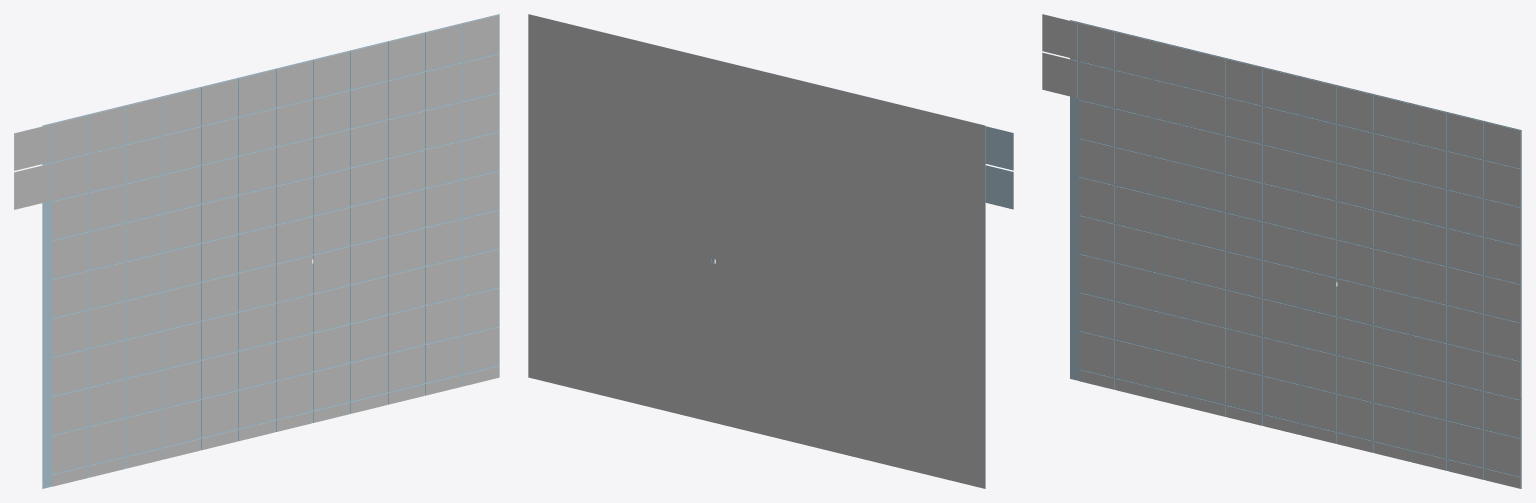
The model's file is floor_0515.obj.
3 views of the same model, side by side, from view 1: azimuth 30°, elevation 25°; view 2: azimuth 150°, elevation 25°; view 3: azimuth 330°, elevation 25° (orthographic).
Visible parts, largest first — view 1: mesh75, mesh115, mesh185, mesh355, mesh475, mesh63, mesh80, mesh85, mesh90, mesh135, mesh145, mesh150 (+99 smaller); view 2: mesh64, mesh52, mesh58; view 3: mesh75, mesh210, mesh160, mesh165, mesh120, mesh125, mesh180, mesh215, mesh400, mesh405, mesh555, mesh580 (+99 smaller).
Part boxes in pixels (x1,y1,x2,y2): mesh75: [42, 14, 499, 488]; mesh115: [89, 106, 125, 152]; mesh185: [425, 102, 461, 148]; mesh355: [388, 150, 424, 196]; mesh475: [388, 306, 424, 352]; mesh63: [14, 163, 50, 209]; mesh80: [425, 24, 461, 70]; mesh85: [388, 72, 424, 118]; mesh90: [425, 63, 461, 109]; mesh135: [313, 207, 349, 253]; mesh145: [425, 180, 461, 226]; mesh150: [388, 189, 424, 235]; mesh64: [528, 14, 985, 488]; mesh52: [985, 126, 1013, 170]; mesh58: [985, 165, 1013, 209]; mesh75: [1070, 20, 1521, 488]; mesh210: [1226, 59, 1262, 104]; mesh160: [1226, 136, 1262, 181]; mesh165: [1263, 145, 1299, 190]; mesh120: [1226, 213, 1262, 258]; mesh125: [1263, 222, 1299, 267]; mesh180: [1263, 107, 1299, 152]; mesh215: [1263, 68, 1299, 113]; mesh400: [1226, 290, 1262, 335]; mesh405: [1263, 299, 1299, 344]; mesh555: [1226, 98, 1262, 143]; mesh580: [1226, 367, 1262, 412].
Size of the model in its own units: 0.3515 by 0.2516 by 0.000508.
